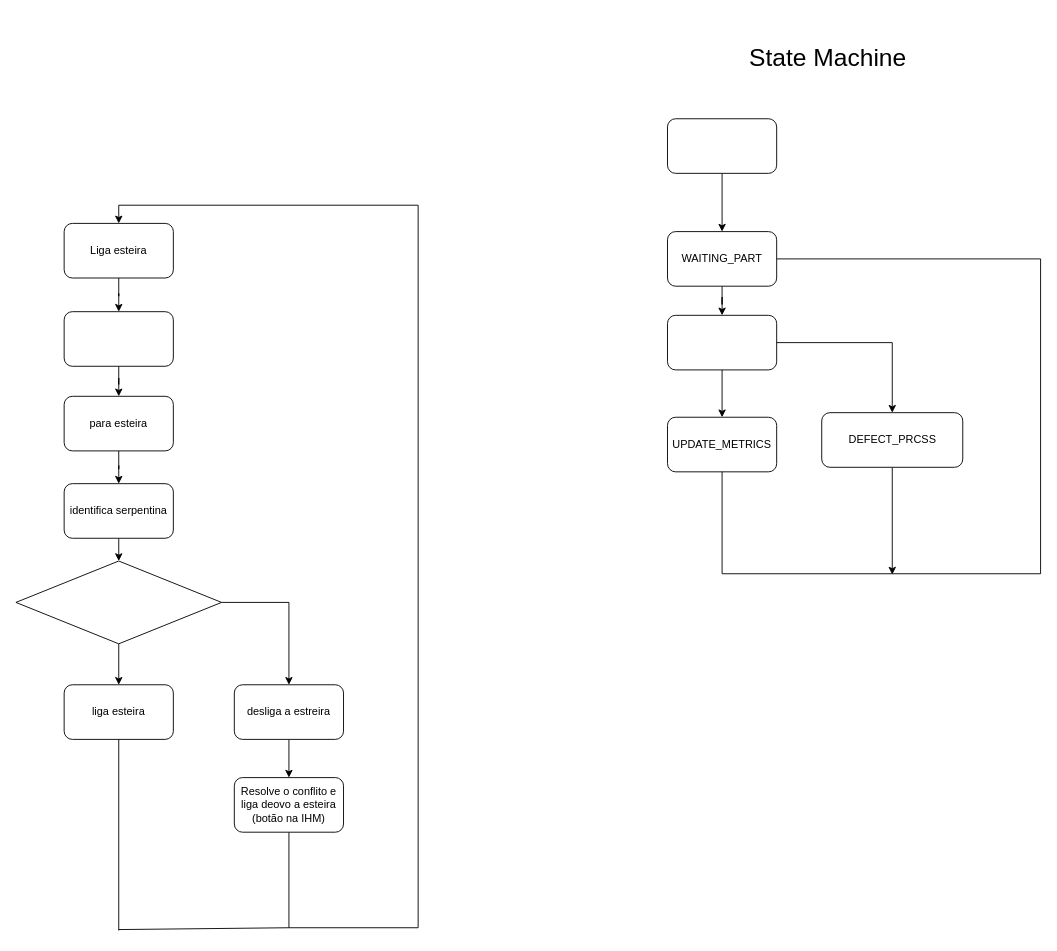
This 1057x951 diagram has some shape labels left out. Here are the shapes that lost their labels. From the top down, the box of each, then its label:
(667, 118, 777, 173): INIT
(63, 311, 173, 366): sensor presença serpentina
(667, 314, 777, 370): PART_ANALYSIS
(15, 560, 222, 644): identifica se tem ou não o erro
